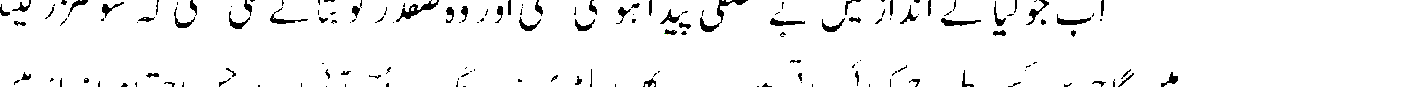bay_shosha: (1053, 10, 1094, 39)
